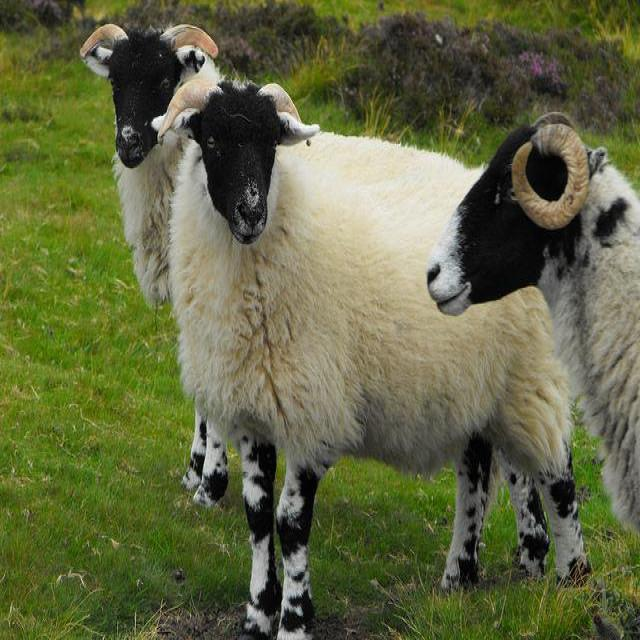Sheep: (82, 24, 550, 577), (157, 77, 591, 631), (431, 111, 639, 538)
